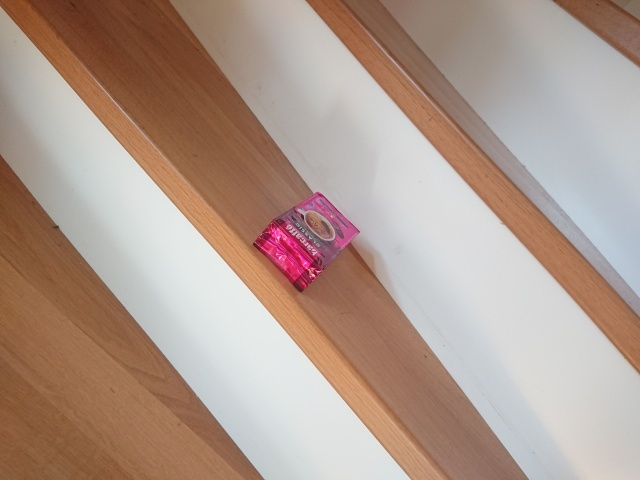Barcaffe Classic Original 225g: (250, 190, 362, 295)
